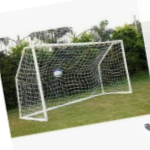goals: (14, 39, 133, 120)
